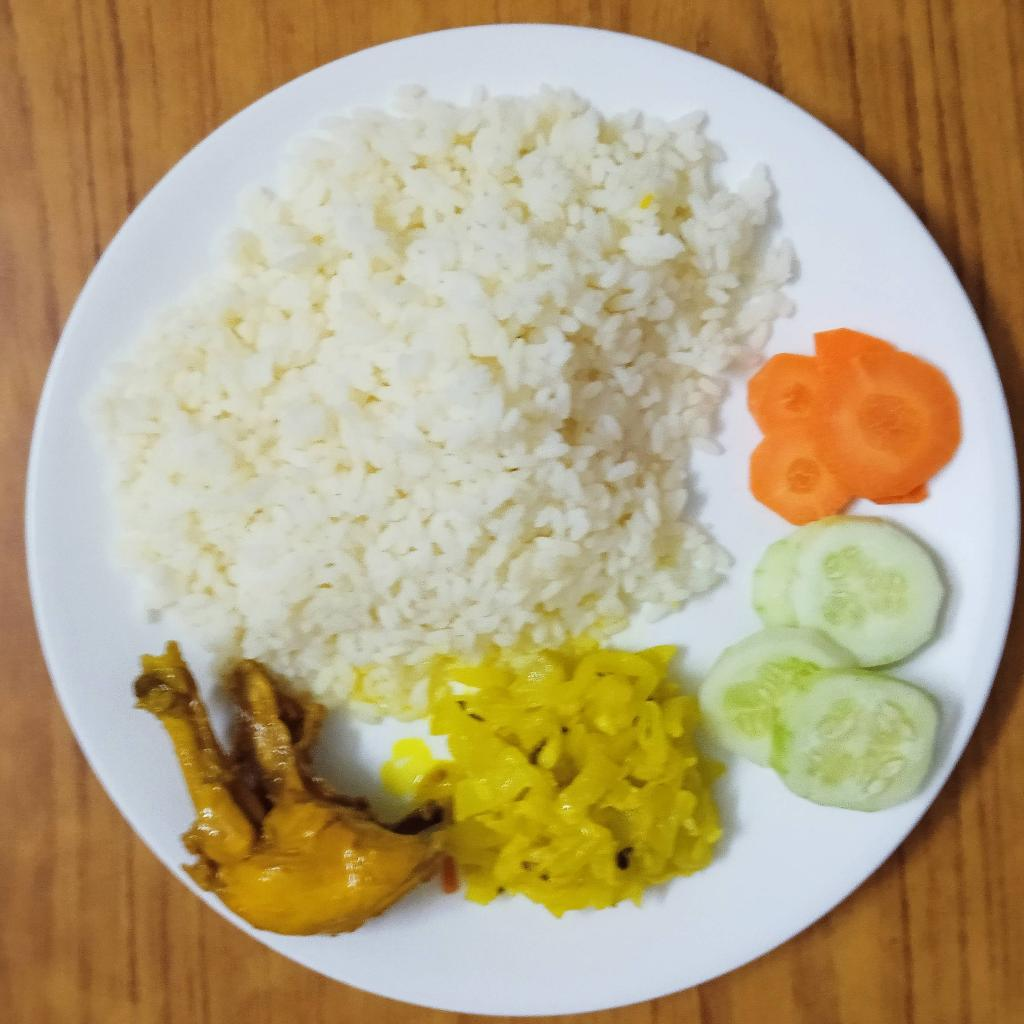carrot: (749, 332, 965, 523)
chicken: (132, 642, 449, 938)
cucumber: (702, 517, 953, 810)
rice: (83, 87, 795, 703)
vaji: (411, 647, 728, 899)
